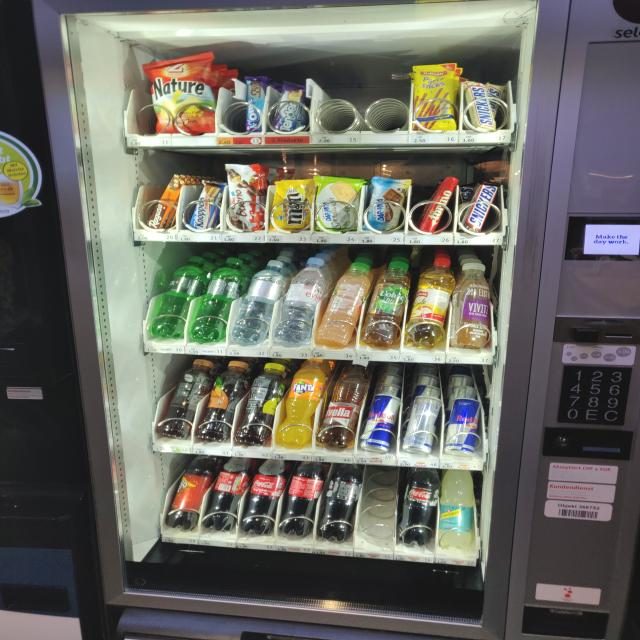bueno___43__4008400320328: (224, 162, 266, 232)
coke__flasche_50__54491472: (278, 463, 325, 539), (201, 458, 247, 530), (243, 462, 283, 535)
coke_zero_flasche_50__5449000131836: (316, 464, 365, 539), (399, 468, 444, 545)
darwida_chocaulait____: (366, 178, 414, 233)
darwida_sandwich____7610032065170: (316, 178, 365, 231)
evian___50__3068320353500: (277, 258, 327, 346)
fanta___50__40822938: (279, 362, 323, 444)
fuse_lemon__50__5449000235947: (236, 364, 284, 446)
fuse_peach__50__5449000236623: (162, 359, 210, 438), (199, 361, 243, 442)
knoppers_riegel____4035800488808: (183, 180, 224, 231)
malburner_partysticks__40__7610200279682: (406, 62, 459, 132)
mezzomix___50__54490840: (163, 458, 207, 531)
milka_oreo_riegel_37_1_7622210704740: (243, 76, 270, 132)
milka_tender____: (270, 80, 306, 134)
mnms_gelb__45__40111445: (270, 176, 316, 232)
ragusa___50__76401121: (145, 176, 186, 230)
ramseier_schorle__50__7610057012456: (408, 258, 454, 349)
redbull___33__90162909: (400, 397, 445, 456), (442, 399, 485, 458), (362, 396, 401, 453)
rivella_rot__50__7610097111072: (316, 361, 366, 448)
schweppes_bitterlemon__50__: (436, 471, 478, 549)
snickers___50__5000159461122: (464, 182, 498, 232)
snickers_weis__50__5000159461122: (466, 81, 498, 131)
torino___46__76415272: (418, 176, 456, 233)
valser_classic__50__76404160: (192, 260, 242, 342), (150, 260, 199, 339)
valser_still__50__7610335002575: (233, 261, 284, 345)
vivitz_classiczitrone__50__: (451, 260, 493, 348)
volvic_pink__50__: (320, 262, 368, 348)
volvic_teeminze__50__3057640335648: (360, 260, 412, 349)
zweifel_salz__90__7610095005007: (149, 52, 215, 137)
